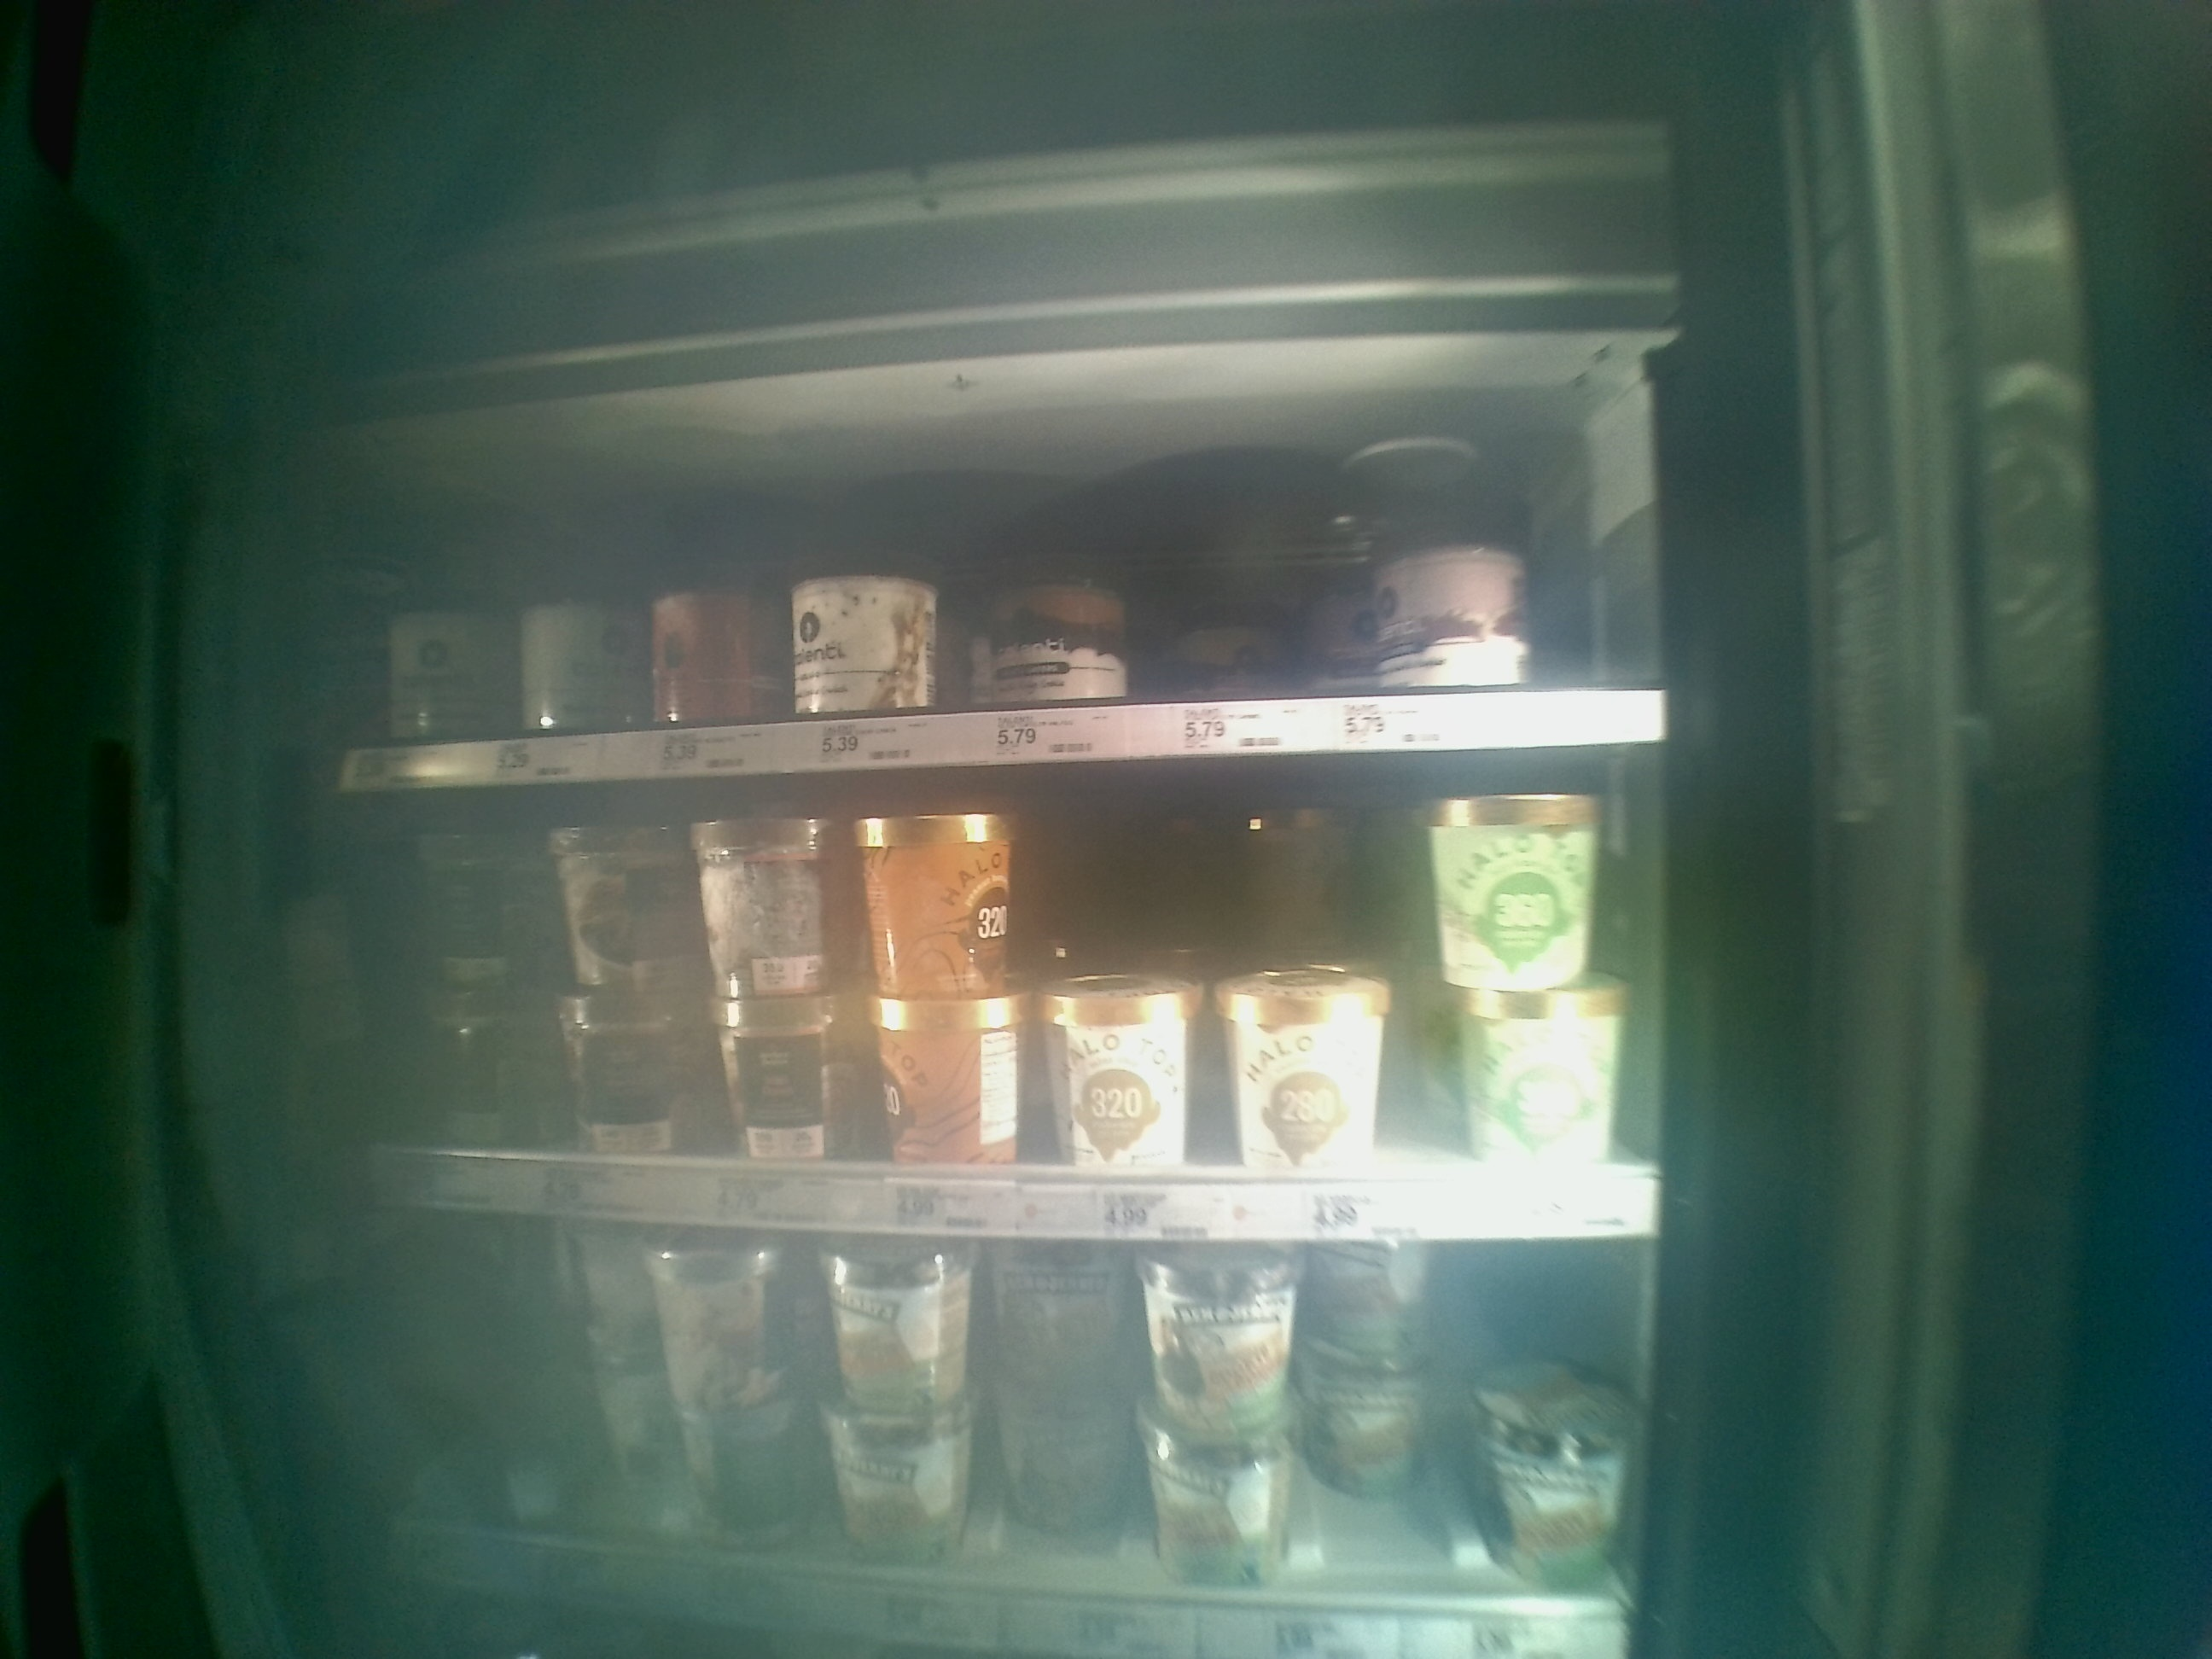shelf: (364, 784, 1658, 1244), (336, 390, 1649, 784)
